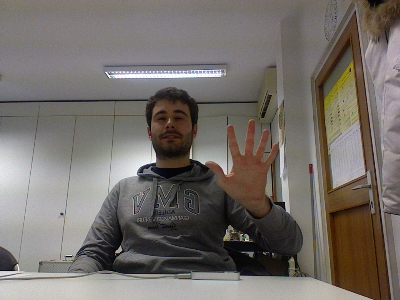布: (202, 116, 280, 202)
